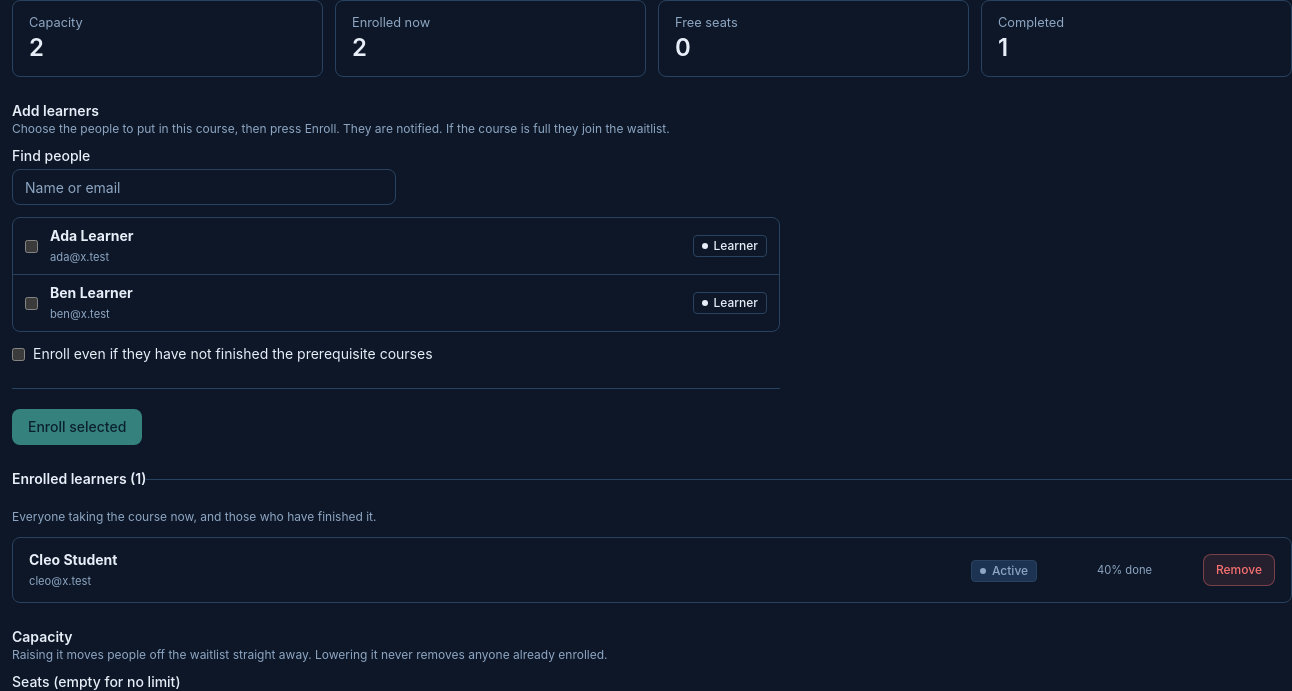
Test case: adding learners to a course › enrolls the people chosen, says what happened, and clears the choice
Click the checkbox labelled "Ada Learner ada@x.test Learner" at (32, 246), box [25,240,38,253]
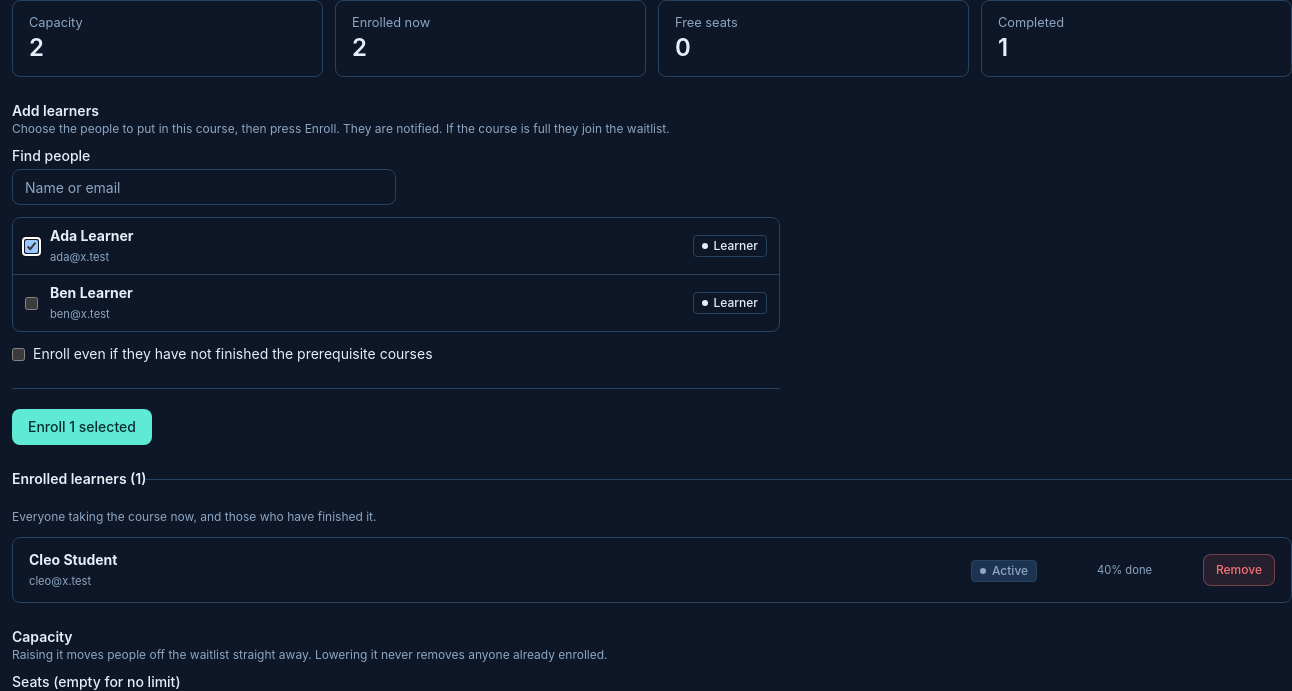
Click the checkbox labelled "Ben Learner ben@x.test Learner" at (32, 303), box [25,297,38,310]
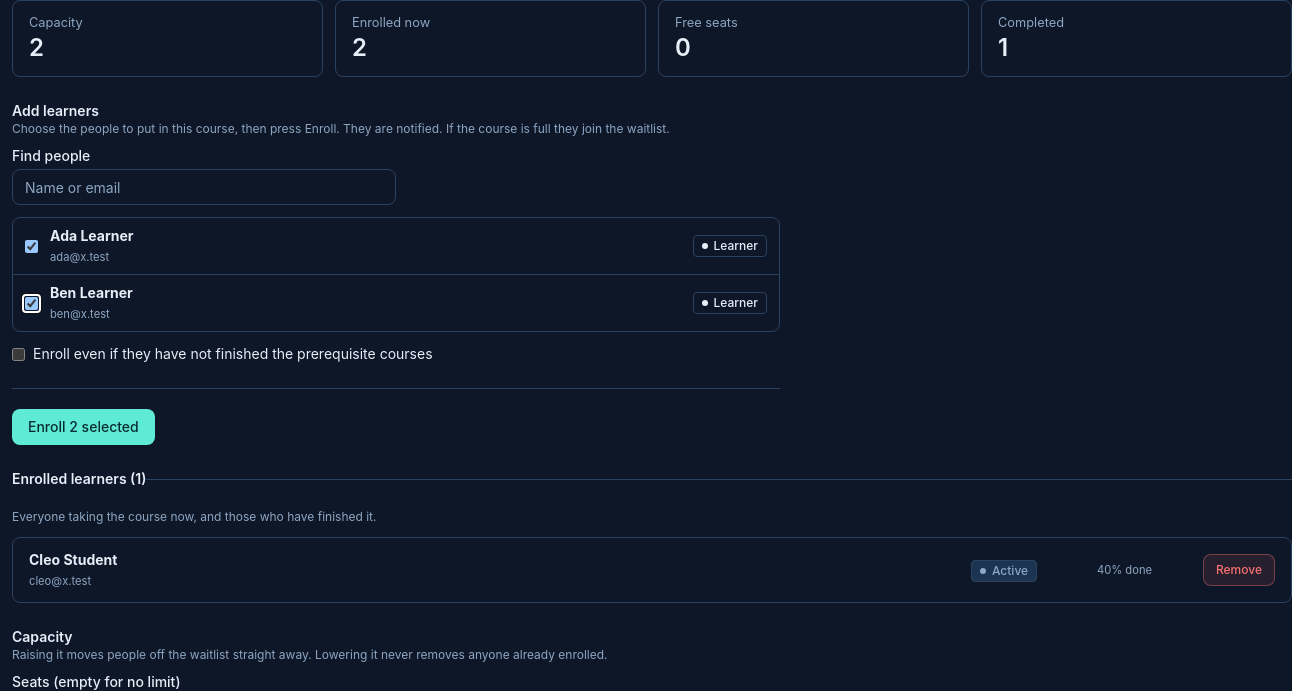
Click the checkbox labelled "Enroll even if they have not finished" at (18, 354), box [12,348,25,361]
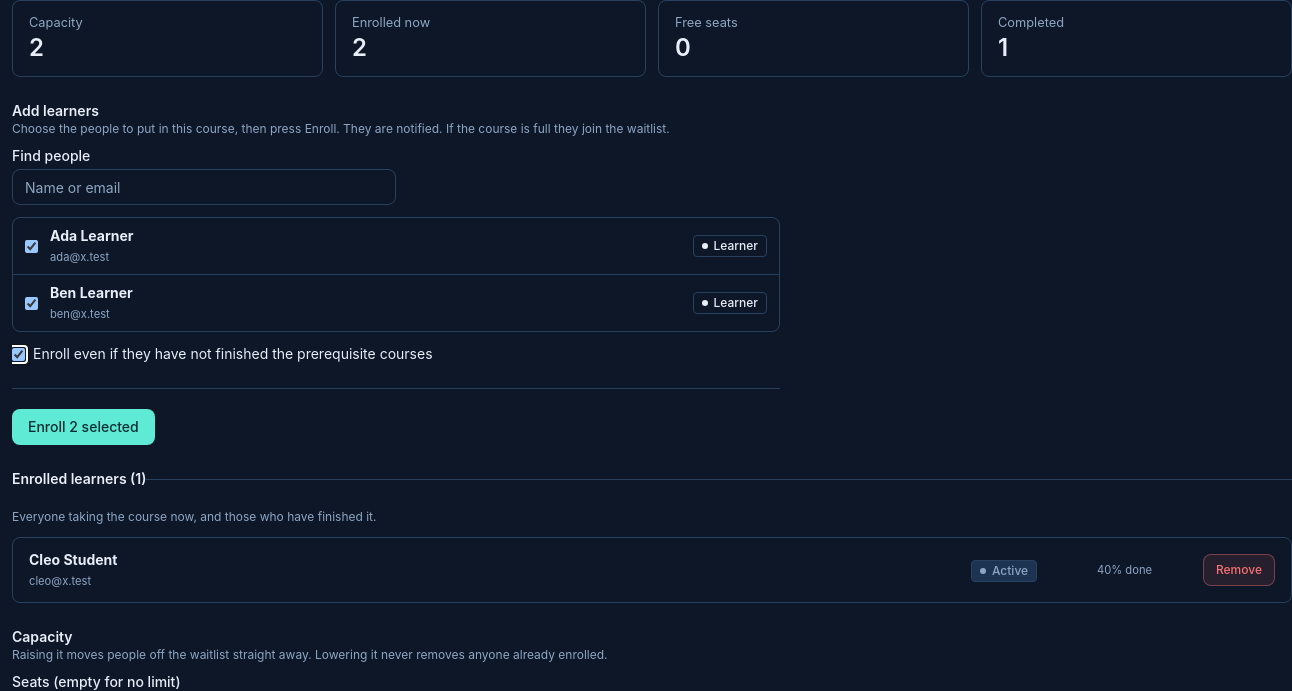
Click the button "Enroll 2 selected" at (83, 427), box [12,409,155,445]
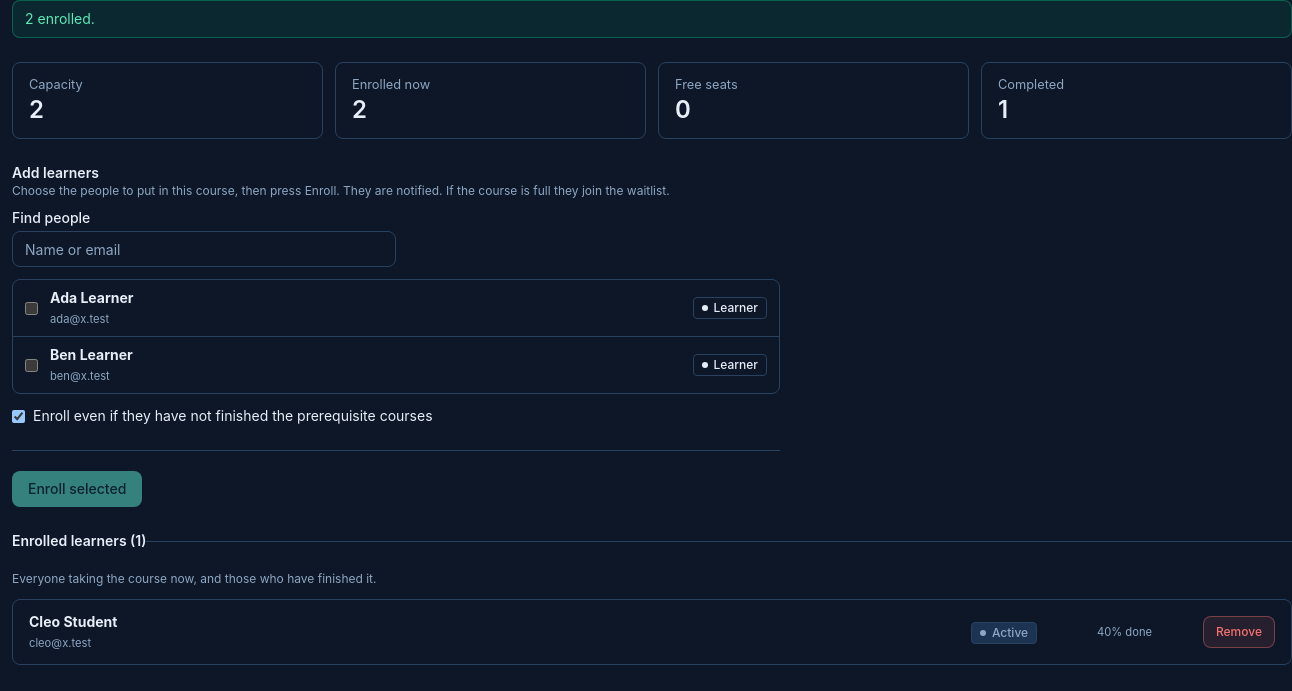
Expected: the text "2 enrolled." is shown, [12,0,1291,38]
Expected: the button "Enroll selected" is disabled, [12,471,142,507]
